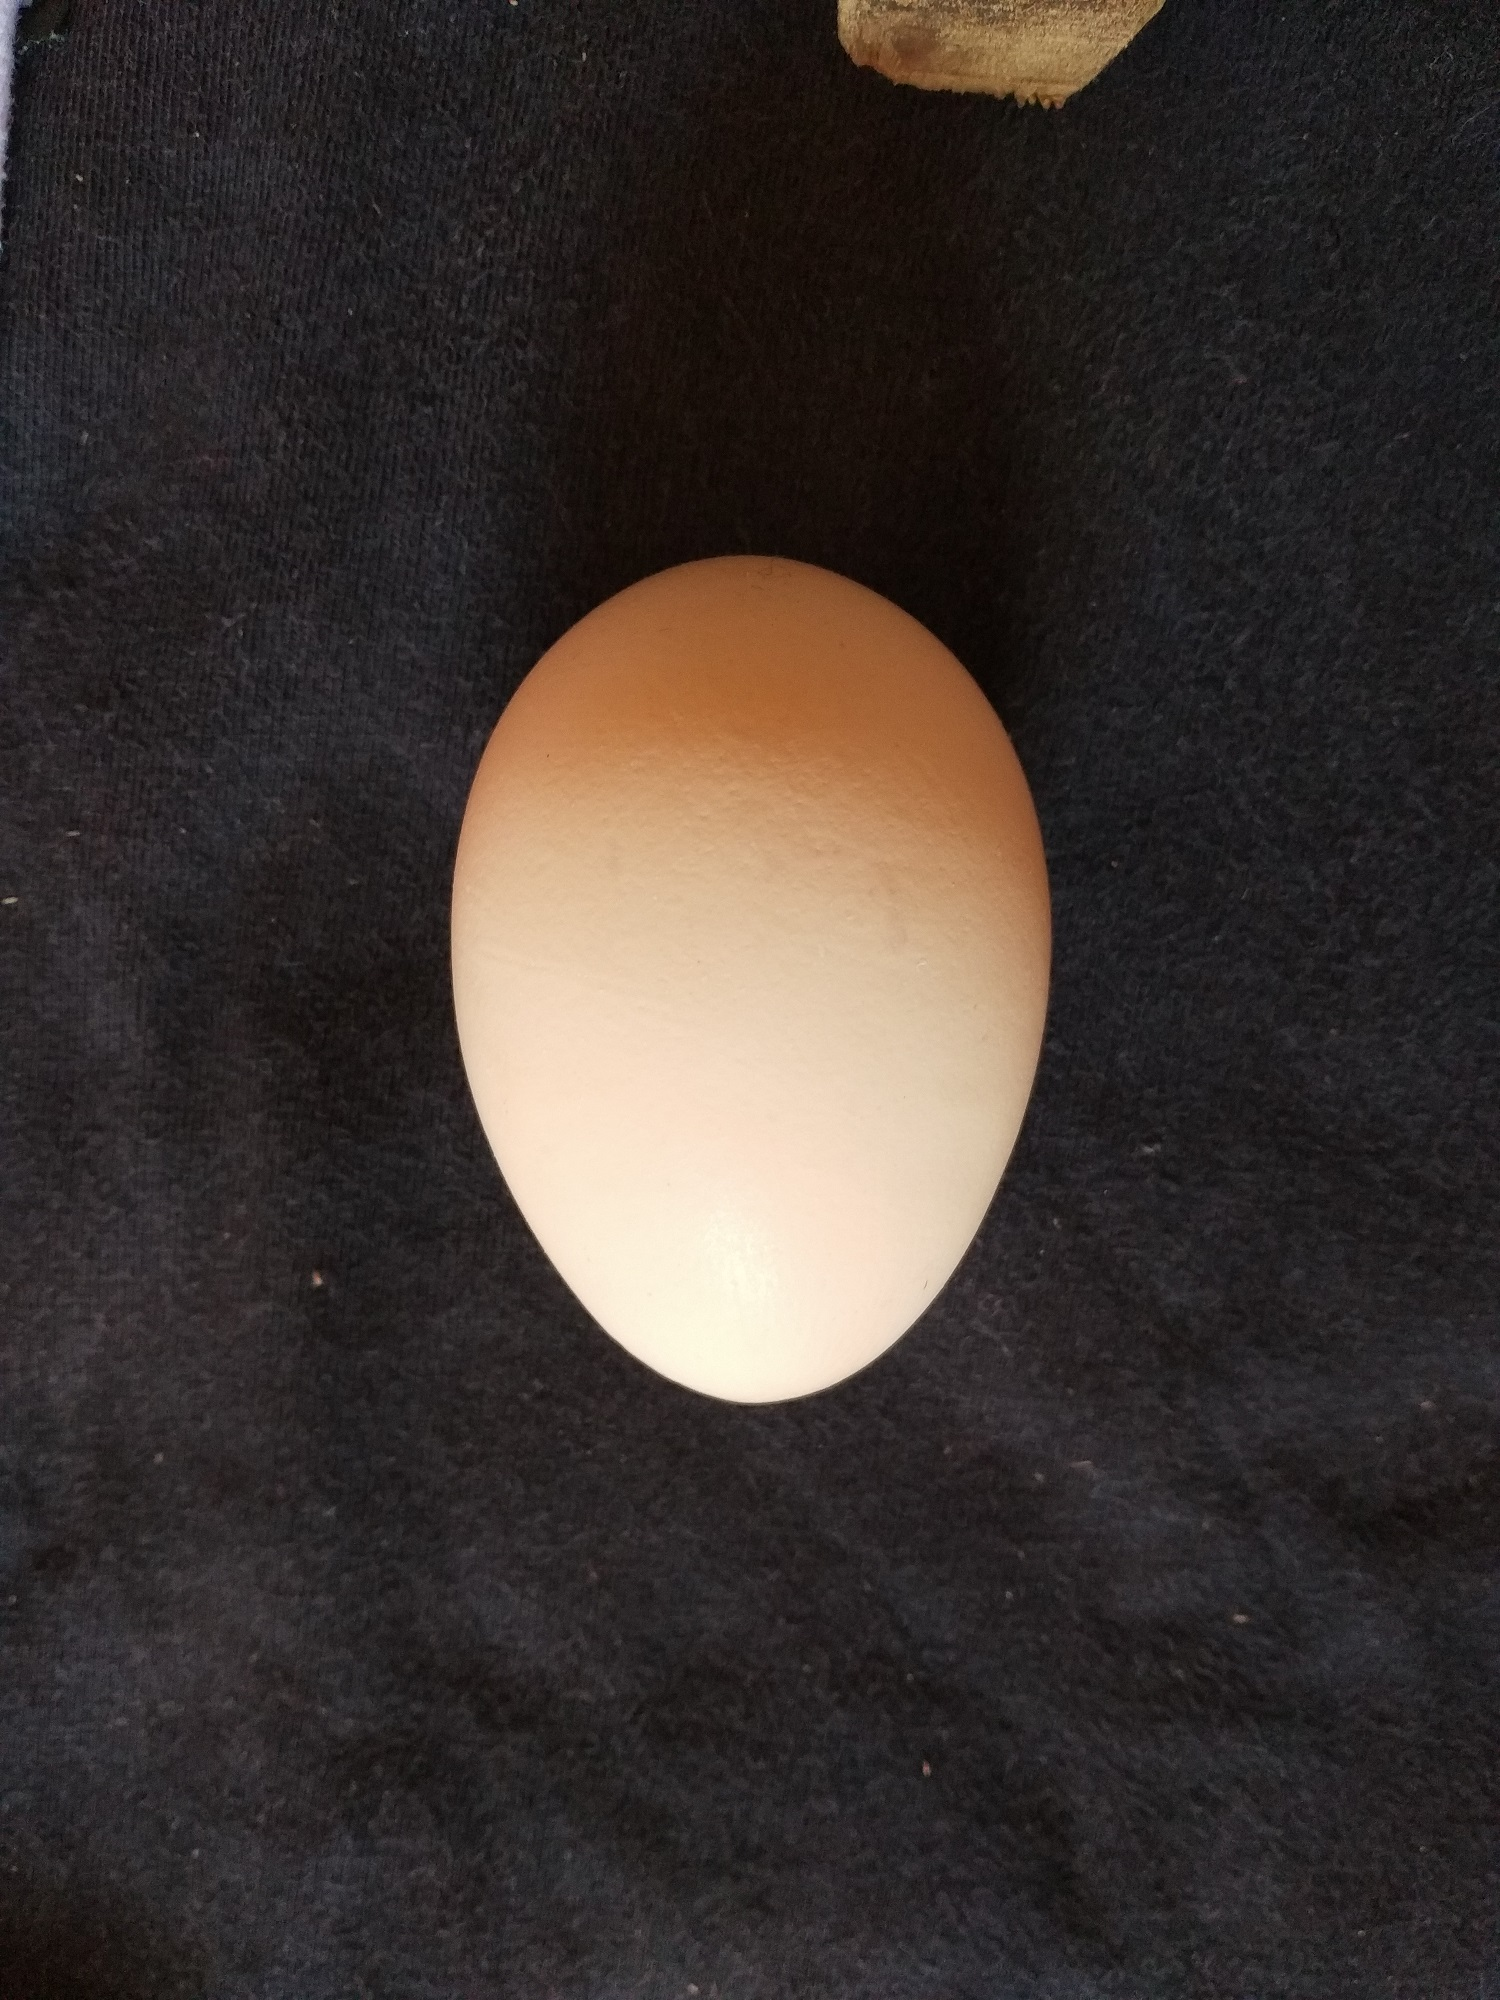Male: (443, 548, 1059, 1413)
